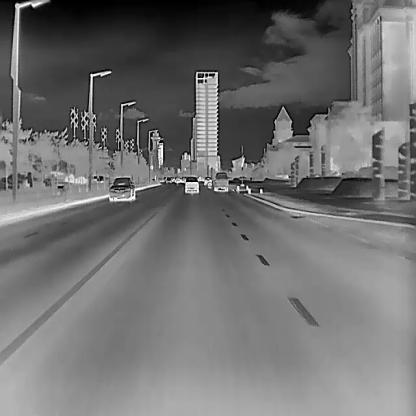car: (108, 176, 135, 202), (212, 171, 228, 191), (184, 176, 198, 193), (204, 176, 212, 186)
